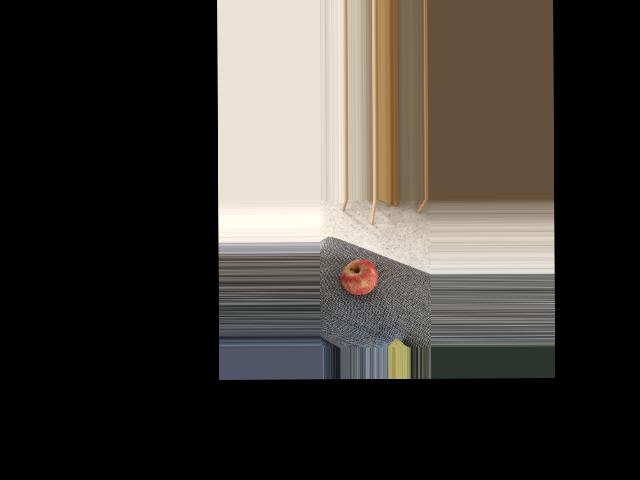apple: (338, 256, 378, 298)
